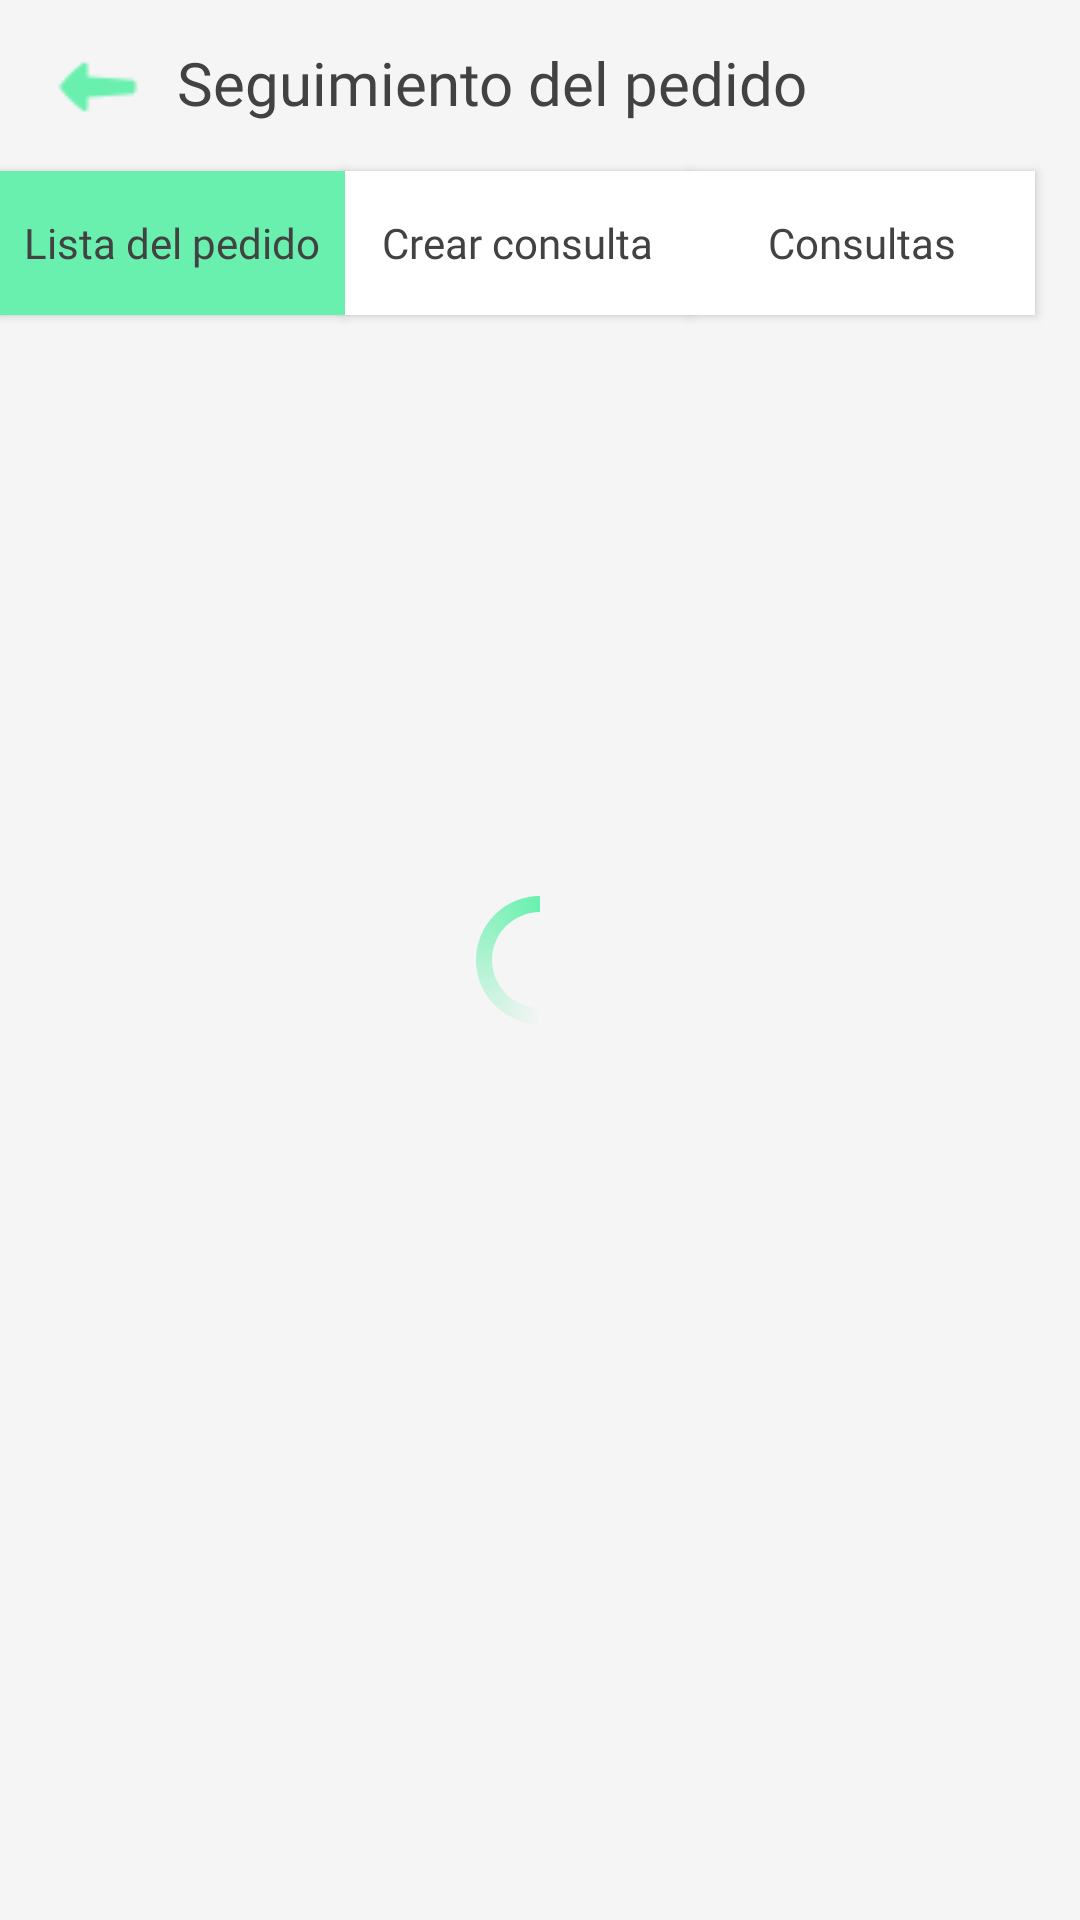

Icons on this 1080px×1920px Android screen, each with its box as (x1,y1,x2,y2):
back: (59,62,138,112)
